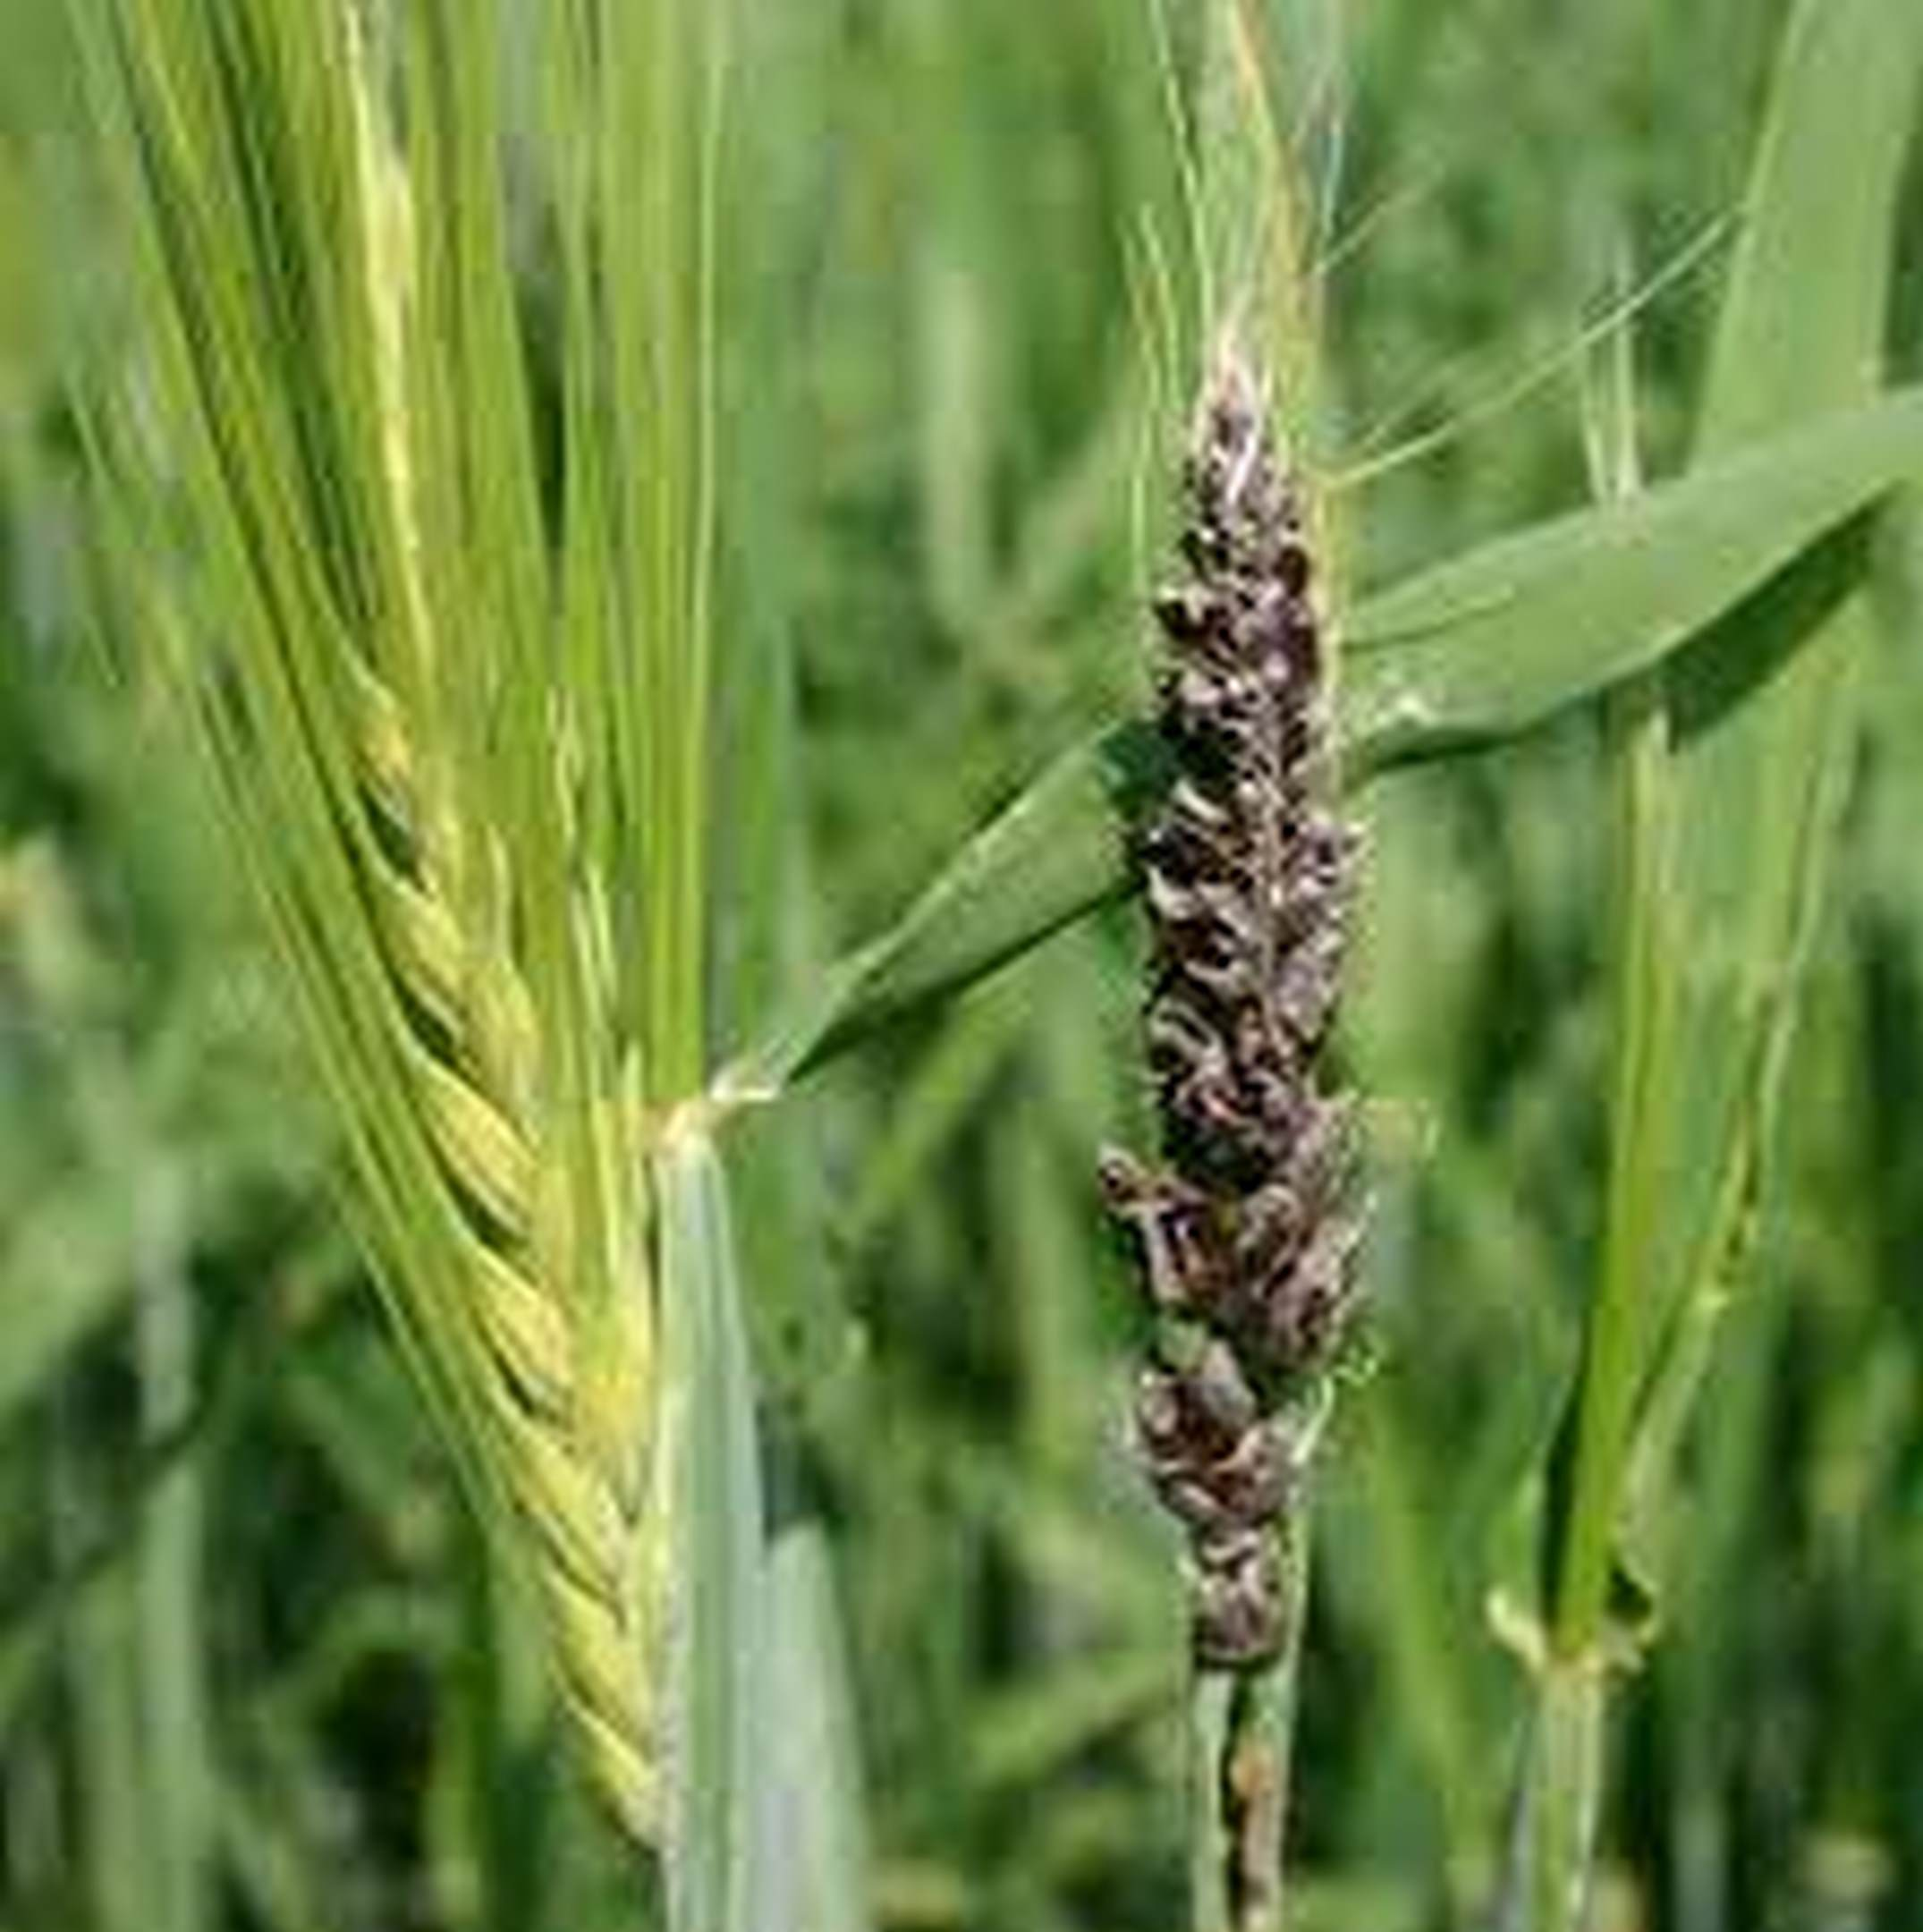Wheat Loose Smut: (1069, 331, 1423, 1645)
